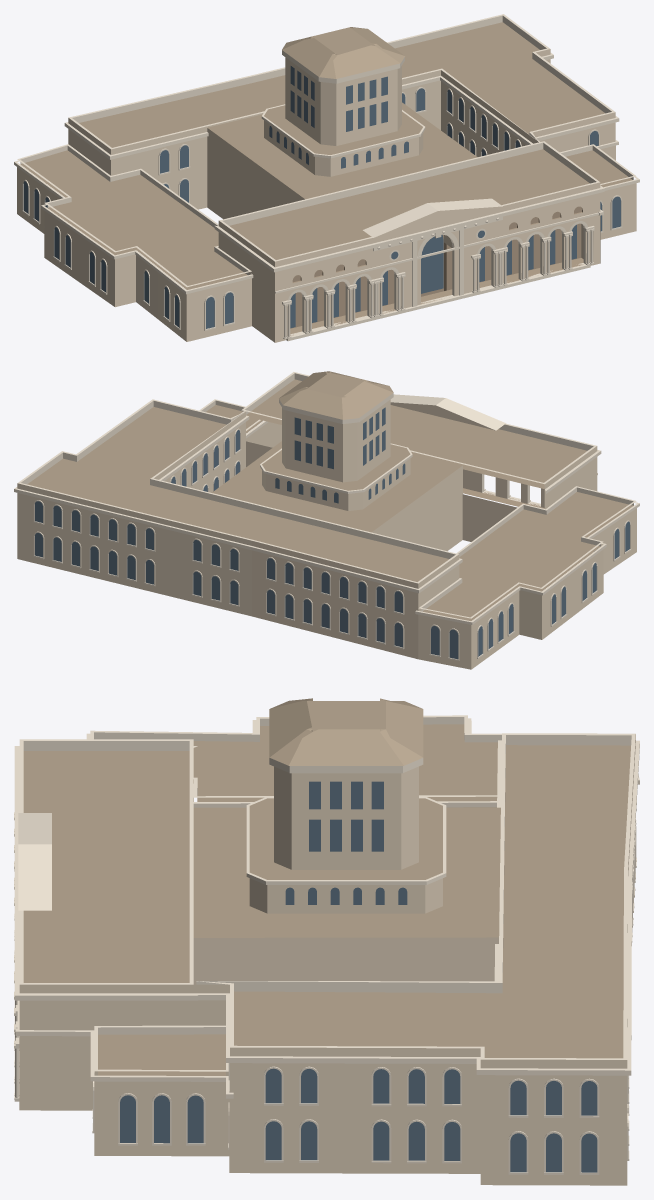
The model's file is yerevan-history-museum.detail.glb.
3 views of the same model, one above another, from view 1: azimuth 30°, elevation 25°; view 2: azimuth 150°, elevation 25°; view 3: azimuth 270°, elevation 25° (orthographic). The views are drawn at different scales.
Parts seen in each view (by area): view 1: History Museum of Armenia; view 2: History Museum of Armenia; view 3: History Museum of Armenia.
Boxes of the visible parts, <box> form: History Museum of Armenia: <box>14,14,639,342</box>; History Museum of Armenia: <box>14,371,639,669</box>; History Museum of Armenia: <box>14,698,639,1185</box>.
Bounding box in the file's own units: 114 × 38.5 × 77.7.
